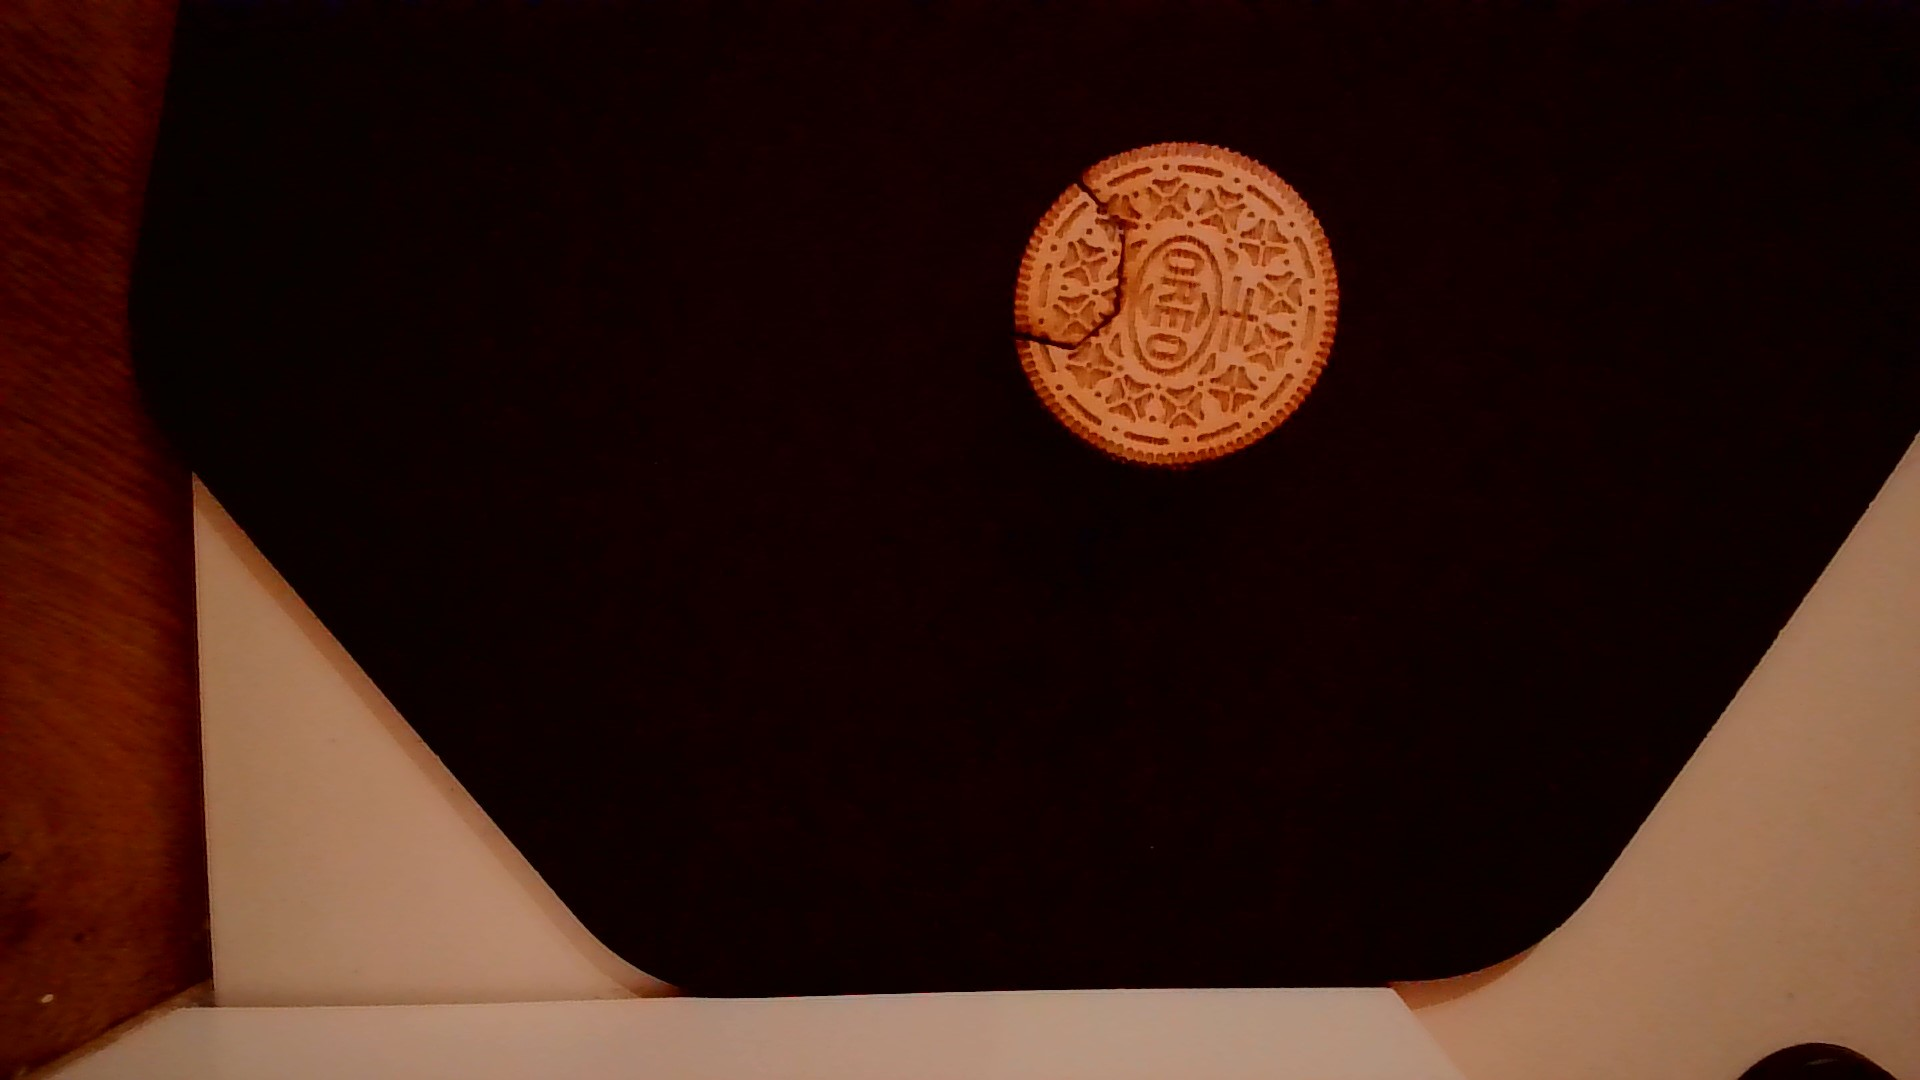Fissure: (1007, 160, 1146, 367)
Oréo: (1000, 135, 1345, 477)
